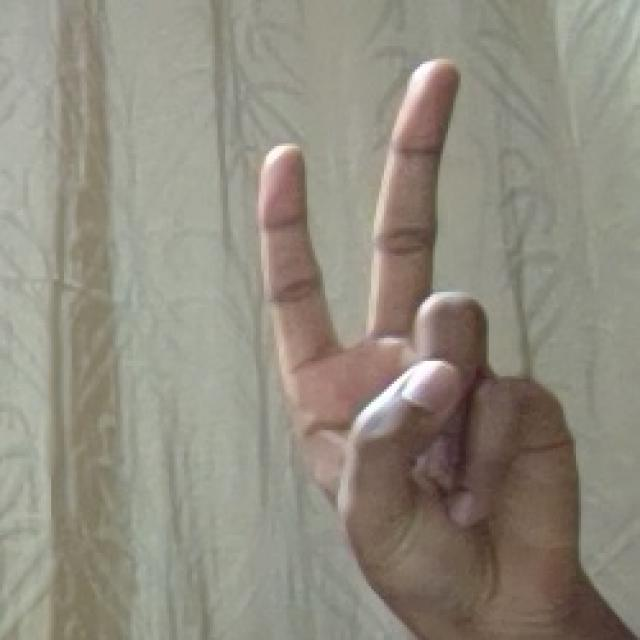Numeric-2: (246, 50, 592, 630)
